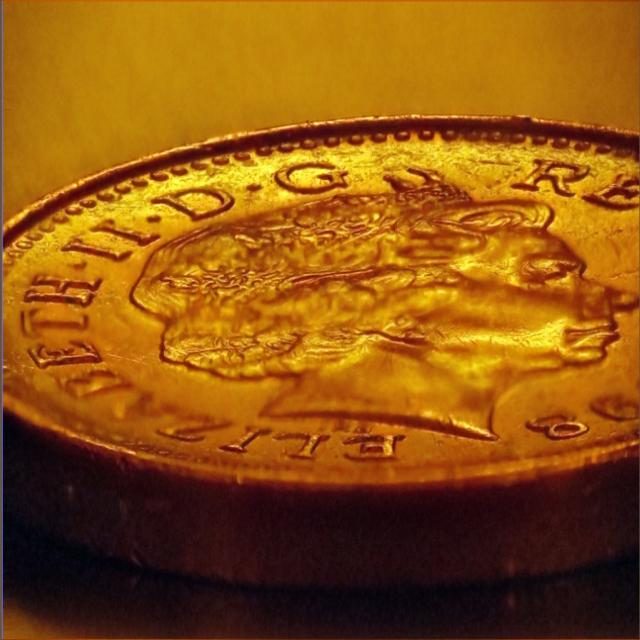Coin: (1, 113, 640, 580)
